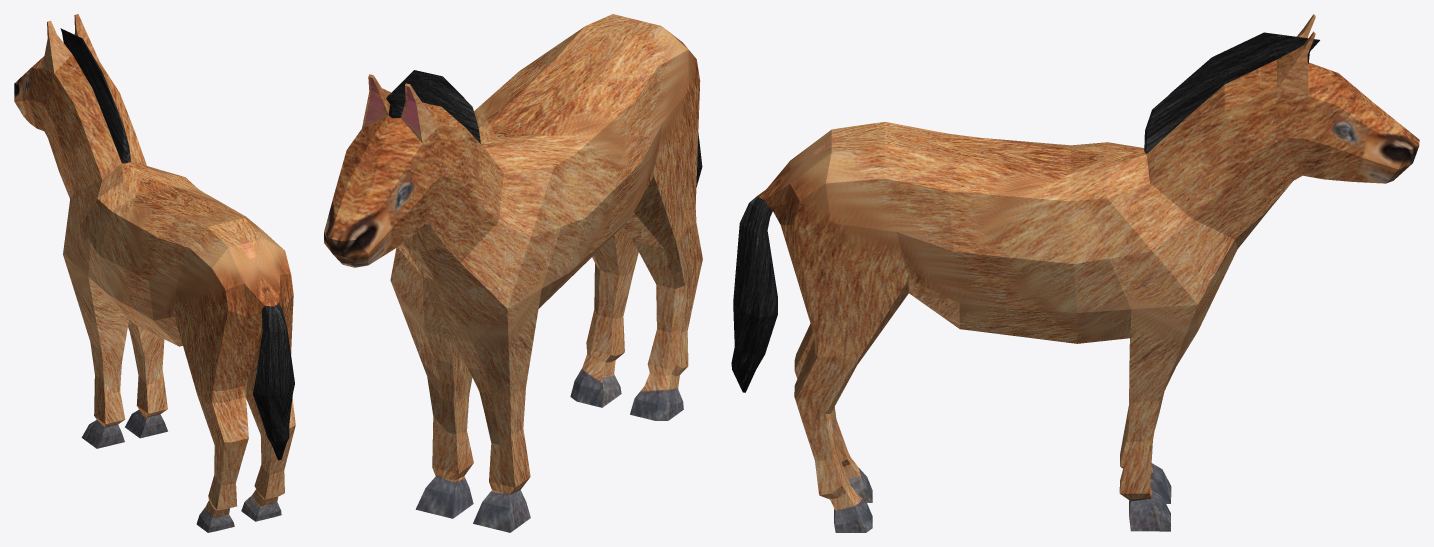
The model's file is horts.glb.
3 renders of one model, left to right at view 1: azimuth 30°, elevation 25°; view 2: azimuth 150°, elevation 25°; view 3: azimuth 270°, elevation 25°, orthographic. The views are drawn at different scales.
Parts seen in each view (by area): view 1: Cube; view 2: Cube; view 3: Cube.
Part boxes in pixels (x1=…): Cube: x1=14, y1=14, x2=295, y2=532; Cube: x1=324, y1=14, x2=702, y2=532; Cube: x1=731, y1=14, x2=1419, y2=532.
Size of the model in its own units: 1.13 by 3.67 by 4.71.
Materials: 1 (1 with a texture image).
